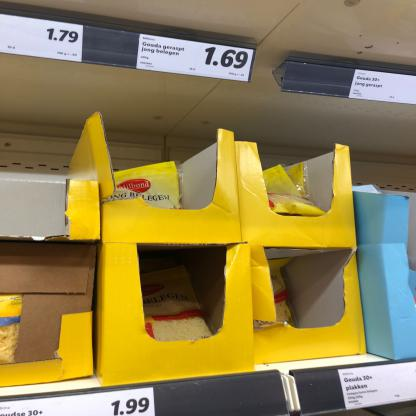prtg: (138, 34, 255, 83), (1, 388, 157, 416), (1, 15, 85, 64), (338, 361, 416, 412), (349, 70, 416, 106)
